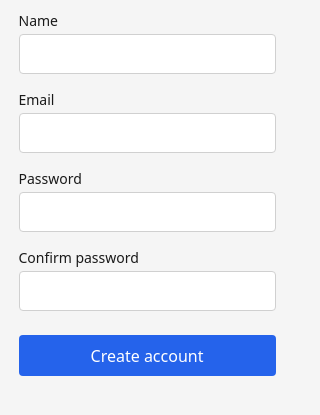
Test: RegisterForm › shows a validation error when password is shorter than 8 characters
The image size is (320, 415).
Type "Ada Lovelace" into the field labelled "Name" at [147, 54], box 18,34 -> 276,74
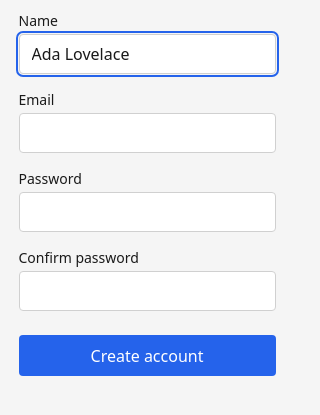
Type "ada@example.com" into the field labelled "Email" at [147, 133], box 18,113 -> 276,153
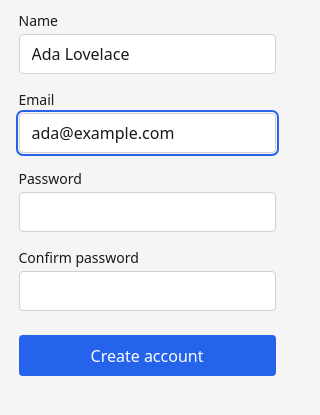
Type "short" into the password field labelled "Password" at [147, 212], box 18,192 -> 276,232
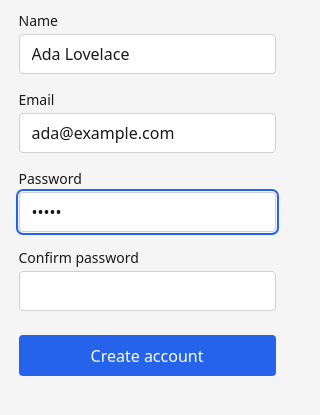
Type "short" into the password field labelled "Confirm password" at [147, 291], box 18,271 -> 276,311
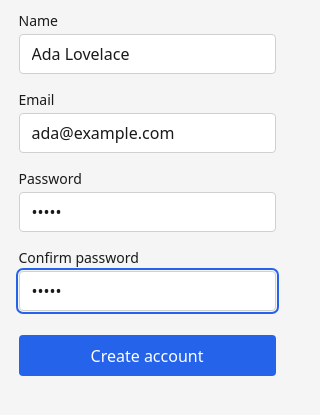
Click the button "Create account" at [147, 356], box 18,335 -> 276,376
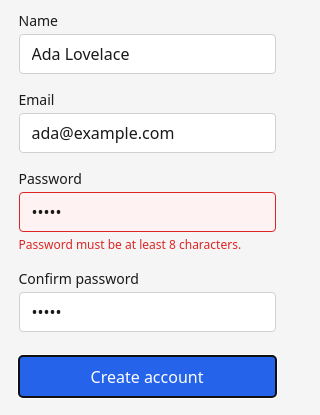
Now the text "Password must be at least 8 characters." is shown, box 18,236 -> 276,253
